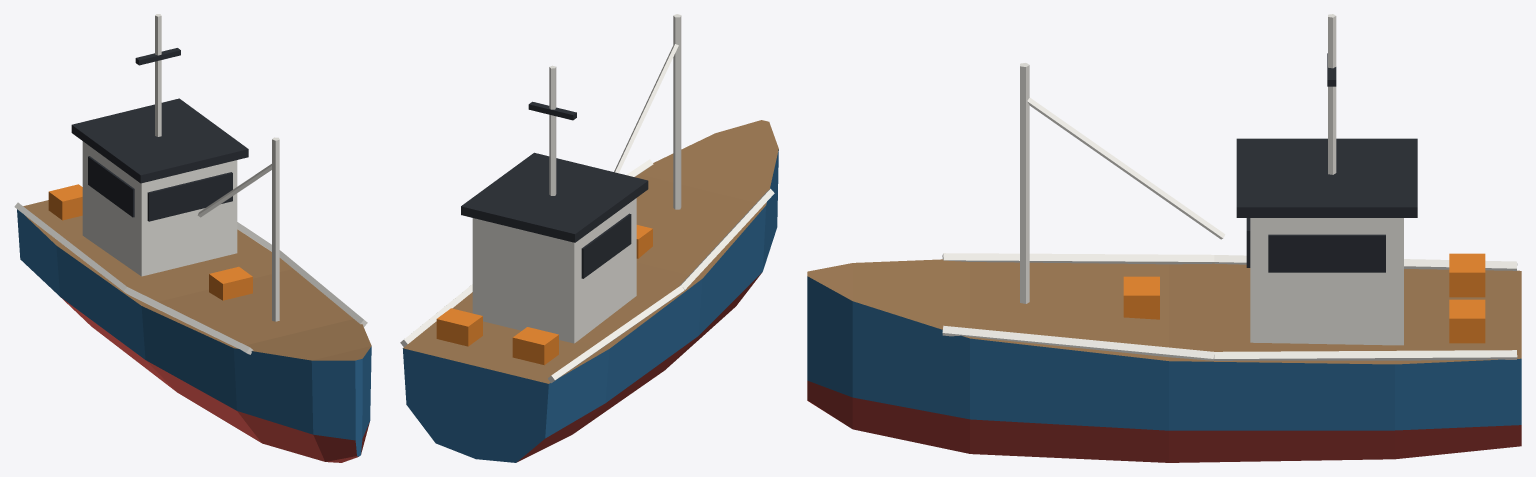
The model's file is boat_fishing.glb.
The picture shows the model from 3 angles, left to right: view 1: azimuth 30°, elevation 25°; view 2: azimuth 150°, elevation 25°; view 3: azimuth 270°, elevation 25°; orthographic projection. The views are drawn at different scales.
Parts seen in each view (by area): view 1: Boat_Fishing; view 2: Boat_Fishing; view 3: Boat_Fishing.
Part boxes in pixels (box(x1,y1,x2,y2)): Boat_Fishing: box(14, 14, 371, 462); Boat_Fishing: box(400, 14, 778, 462); Boat_Fishing: box(807, 14, 1521, 462).
Size of the model in its own units: 2.66 by 5.25 by 7.9.
